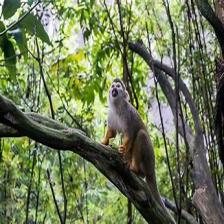monkey: (105, 76, 162, 203)
